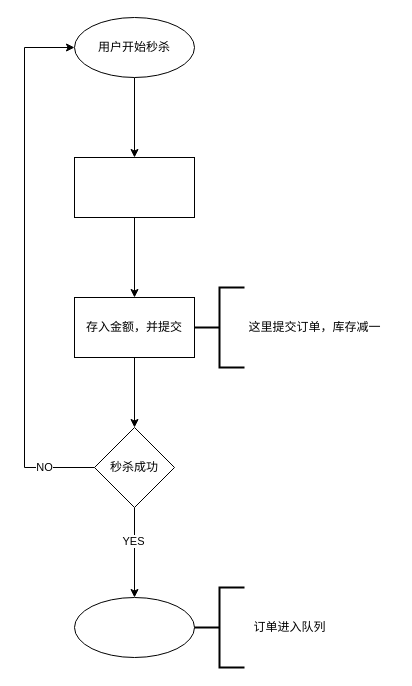
The diagram is 412 pixels wide and 686 high, and some of its shapes have lost their labels. Each missing label, with the centre of its shape:
"点击秒杀按钮" goes at point (134, 187).
"秒杀结束" goes at point (134, 627).
